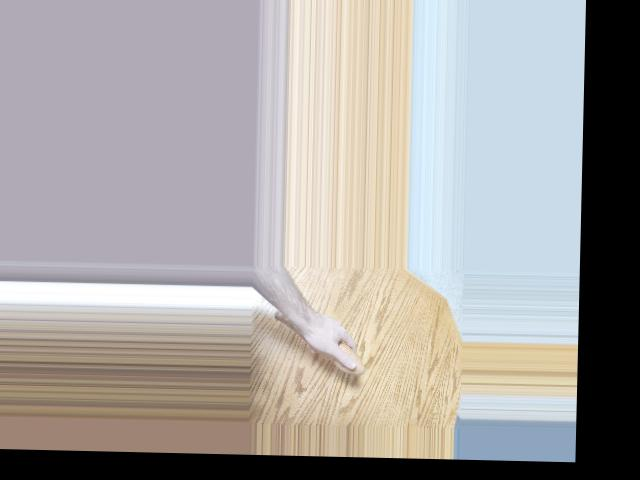sweet_potato: (271, 312, 368, 377)
